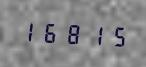eight: (62, 19, 83, 47)
five: (106, 21, 127, 49)
one: (18, 17, 39, 45), (84, 20, 105, 48)
six: (40, 18, 61, 46)
